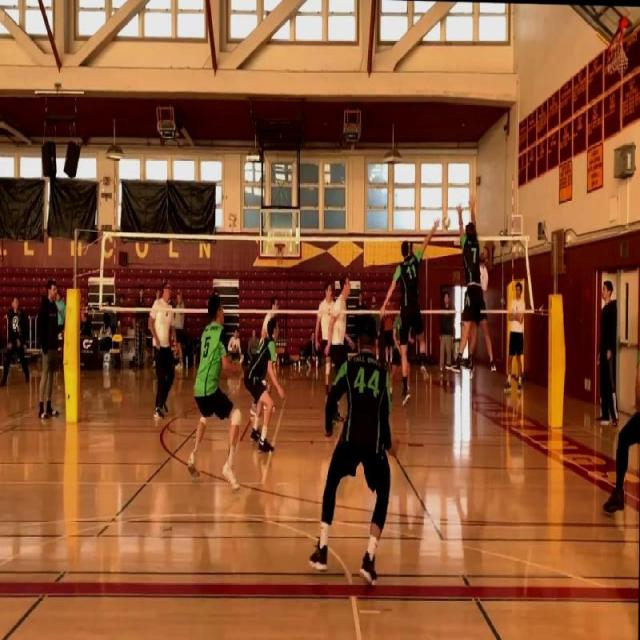volleyball: (442, 214, 450, 227)
